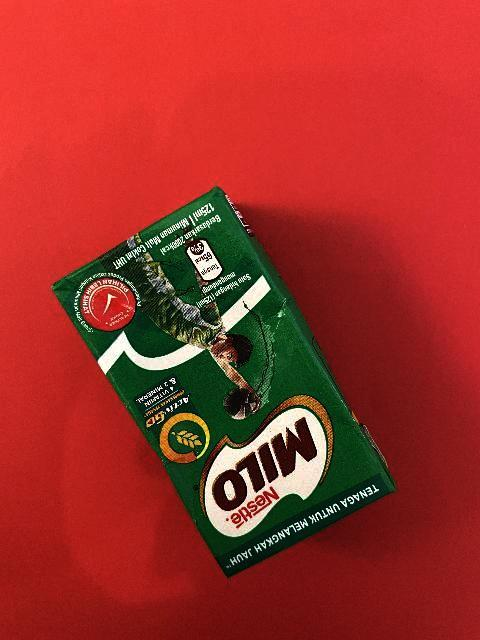drinkpack: (49, 181, 395, 581)
